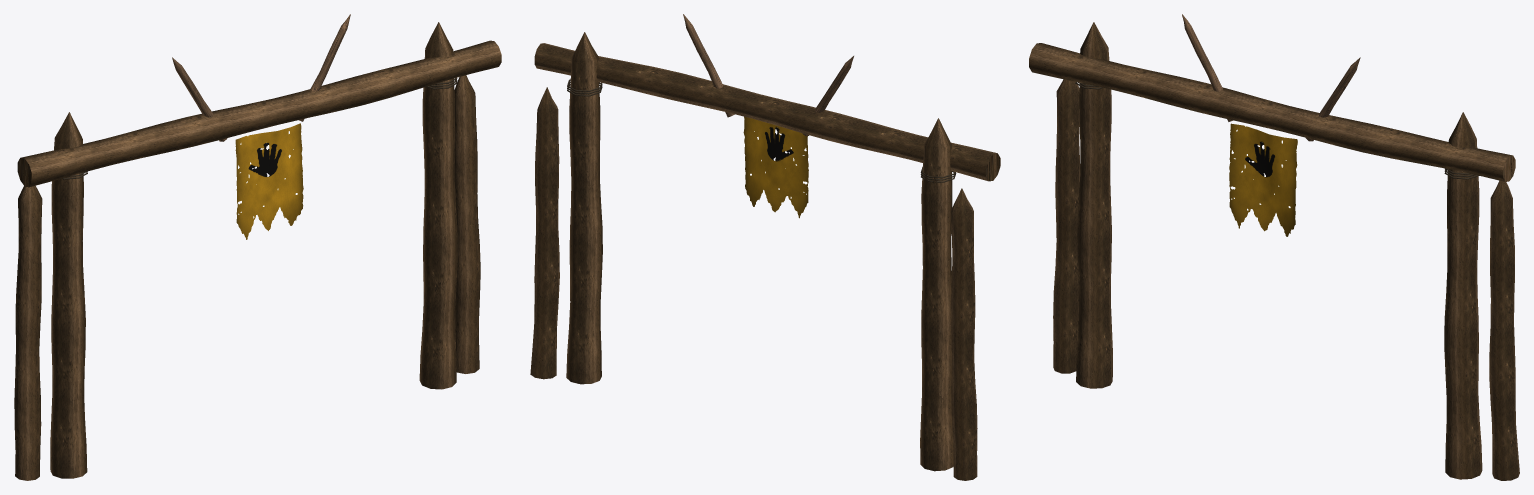
Rendered from SM_Bld_Player_Gate.gltf.
3 renders of one model, left to right at view 1: azimuth 30°, elevation 25°; view 2: azimuth 150°, elevation 25°; view 3: azimuth 330°, elevation 25°, orthographic. The views are drawn at different scales.
Visible parts, largest first — view 1: SM_Bld_Player_Gate; view 2: SM_Bld_Player_Gate; view 3: SM_Bld_Player_Gate.
Boxes of the visible parts, box(x1,y1,x2,y2) form: SM_Bld_Player_Gate: box(14, 14, 501, 480); SM_Bld_Player_Gate: box(530, 14, 1000, 480); SM_Bld_Player_Gate: box(1029, 14, 1519, 480).
Size of the model in its own units: 7.41 by 5.96 by 0.8431.
4 materials, 4 textured.
